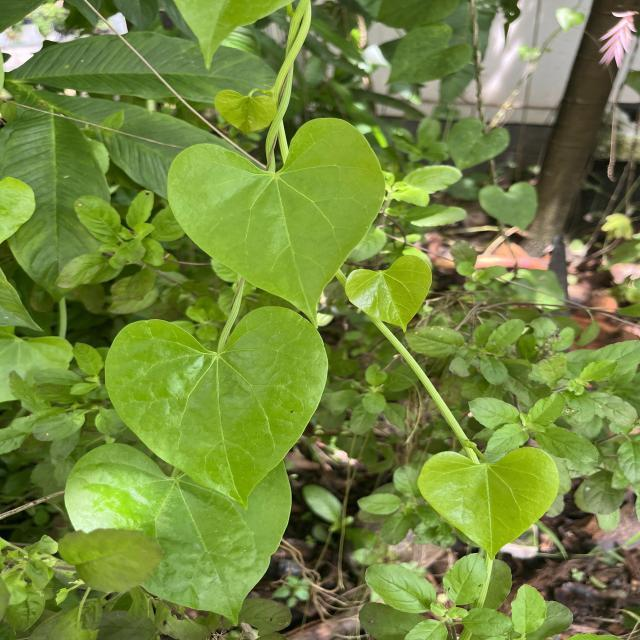Tinospora cordifolia: (101, 302, 332, 514), (165, 115, 388, 332), (62, 434, 296, 628), (414, 443, 562, 562), (341, 253, 434, 335)
